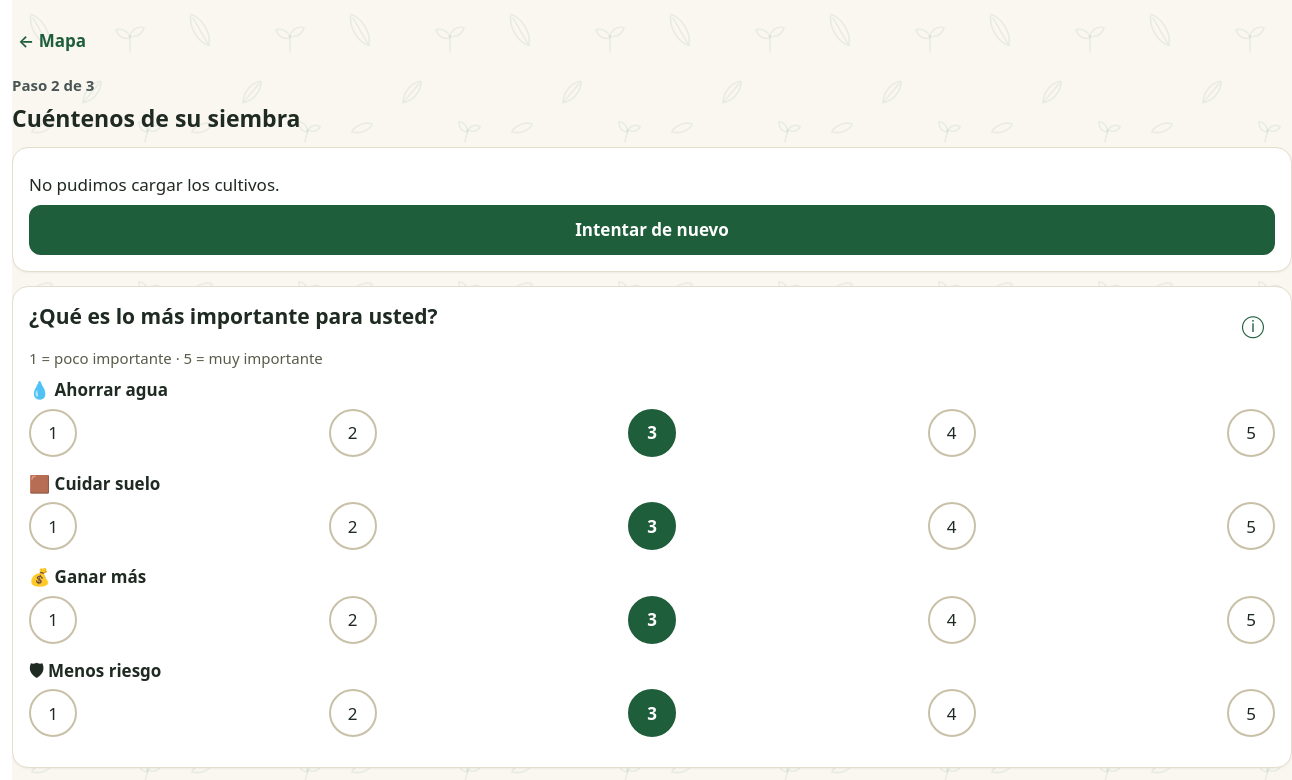
a catalog error offers 'Intentar de nuevo' and reloads
Click the button "Intentar de nuevo" at (652, 230), box top-left (29, 205), bottom-right (1275, 255)
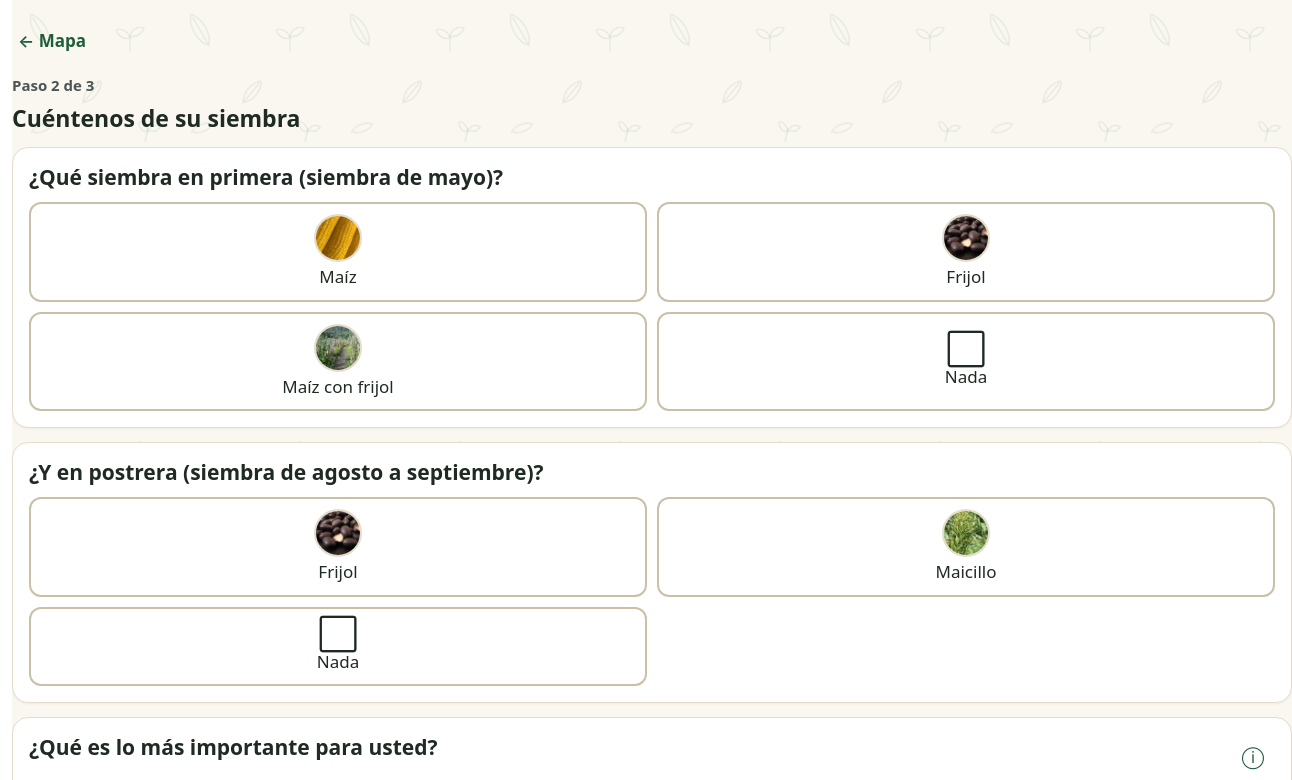
expect the button "Maicillo" is shown: met, box top-left (657, 497), bottom-right (1275, 597)
